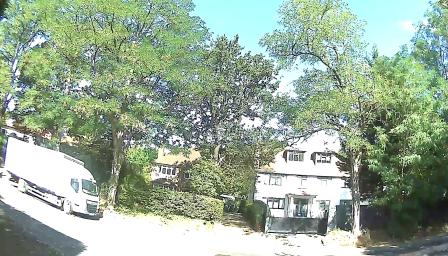truck: (6, 133, 107, 225)
